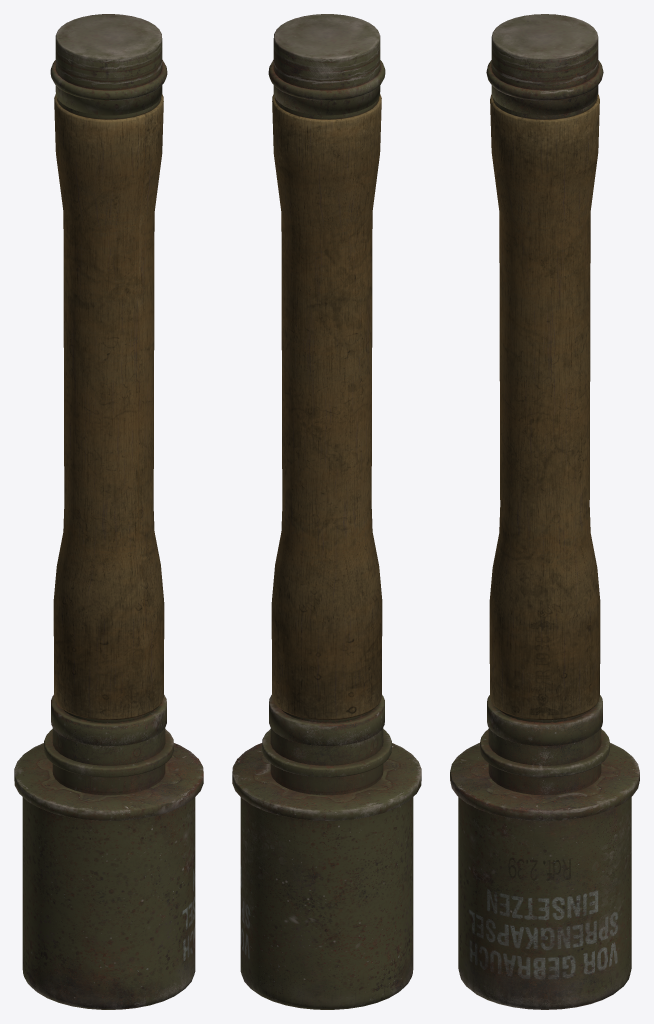
File: Model_Type24Grenade.glb
3 renders of one model, left to right at view 1: azimuth 30°, elevation 25°; view 2: azimuth 150°, elevation 25°; view 3: azimuth 270°, elevation 25°, orthographic.
Visible parts, largest first — view 1: Type24Grenade; view 2: Type24Grenade; view 3: Type24Grenade.
Part boxes in pixels (left/top/right/bottom): Type24Grenade: left=14, top=14, right=203, bottom=1009; Type24Grenade: left=232, top=14, right=421, bottom=1009; Type24Grenade: left=450, top=14, right=639, bottom=1009.
Bounding box in the file's own units: 0.0403 × 0.22 × 0.0403.
1 material, 1 textured.
